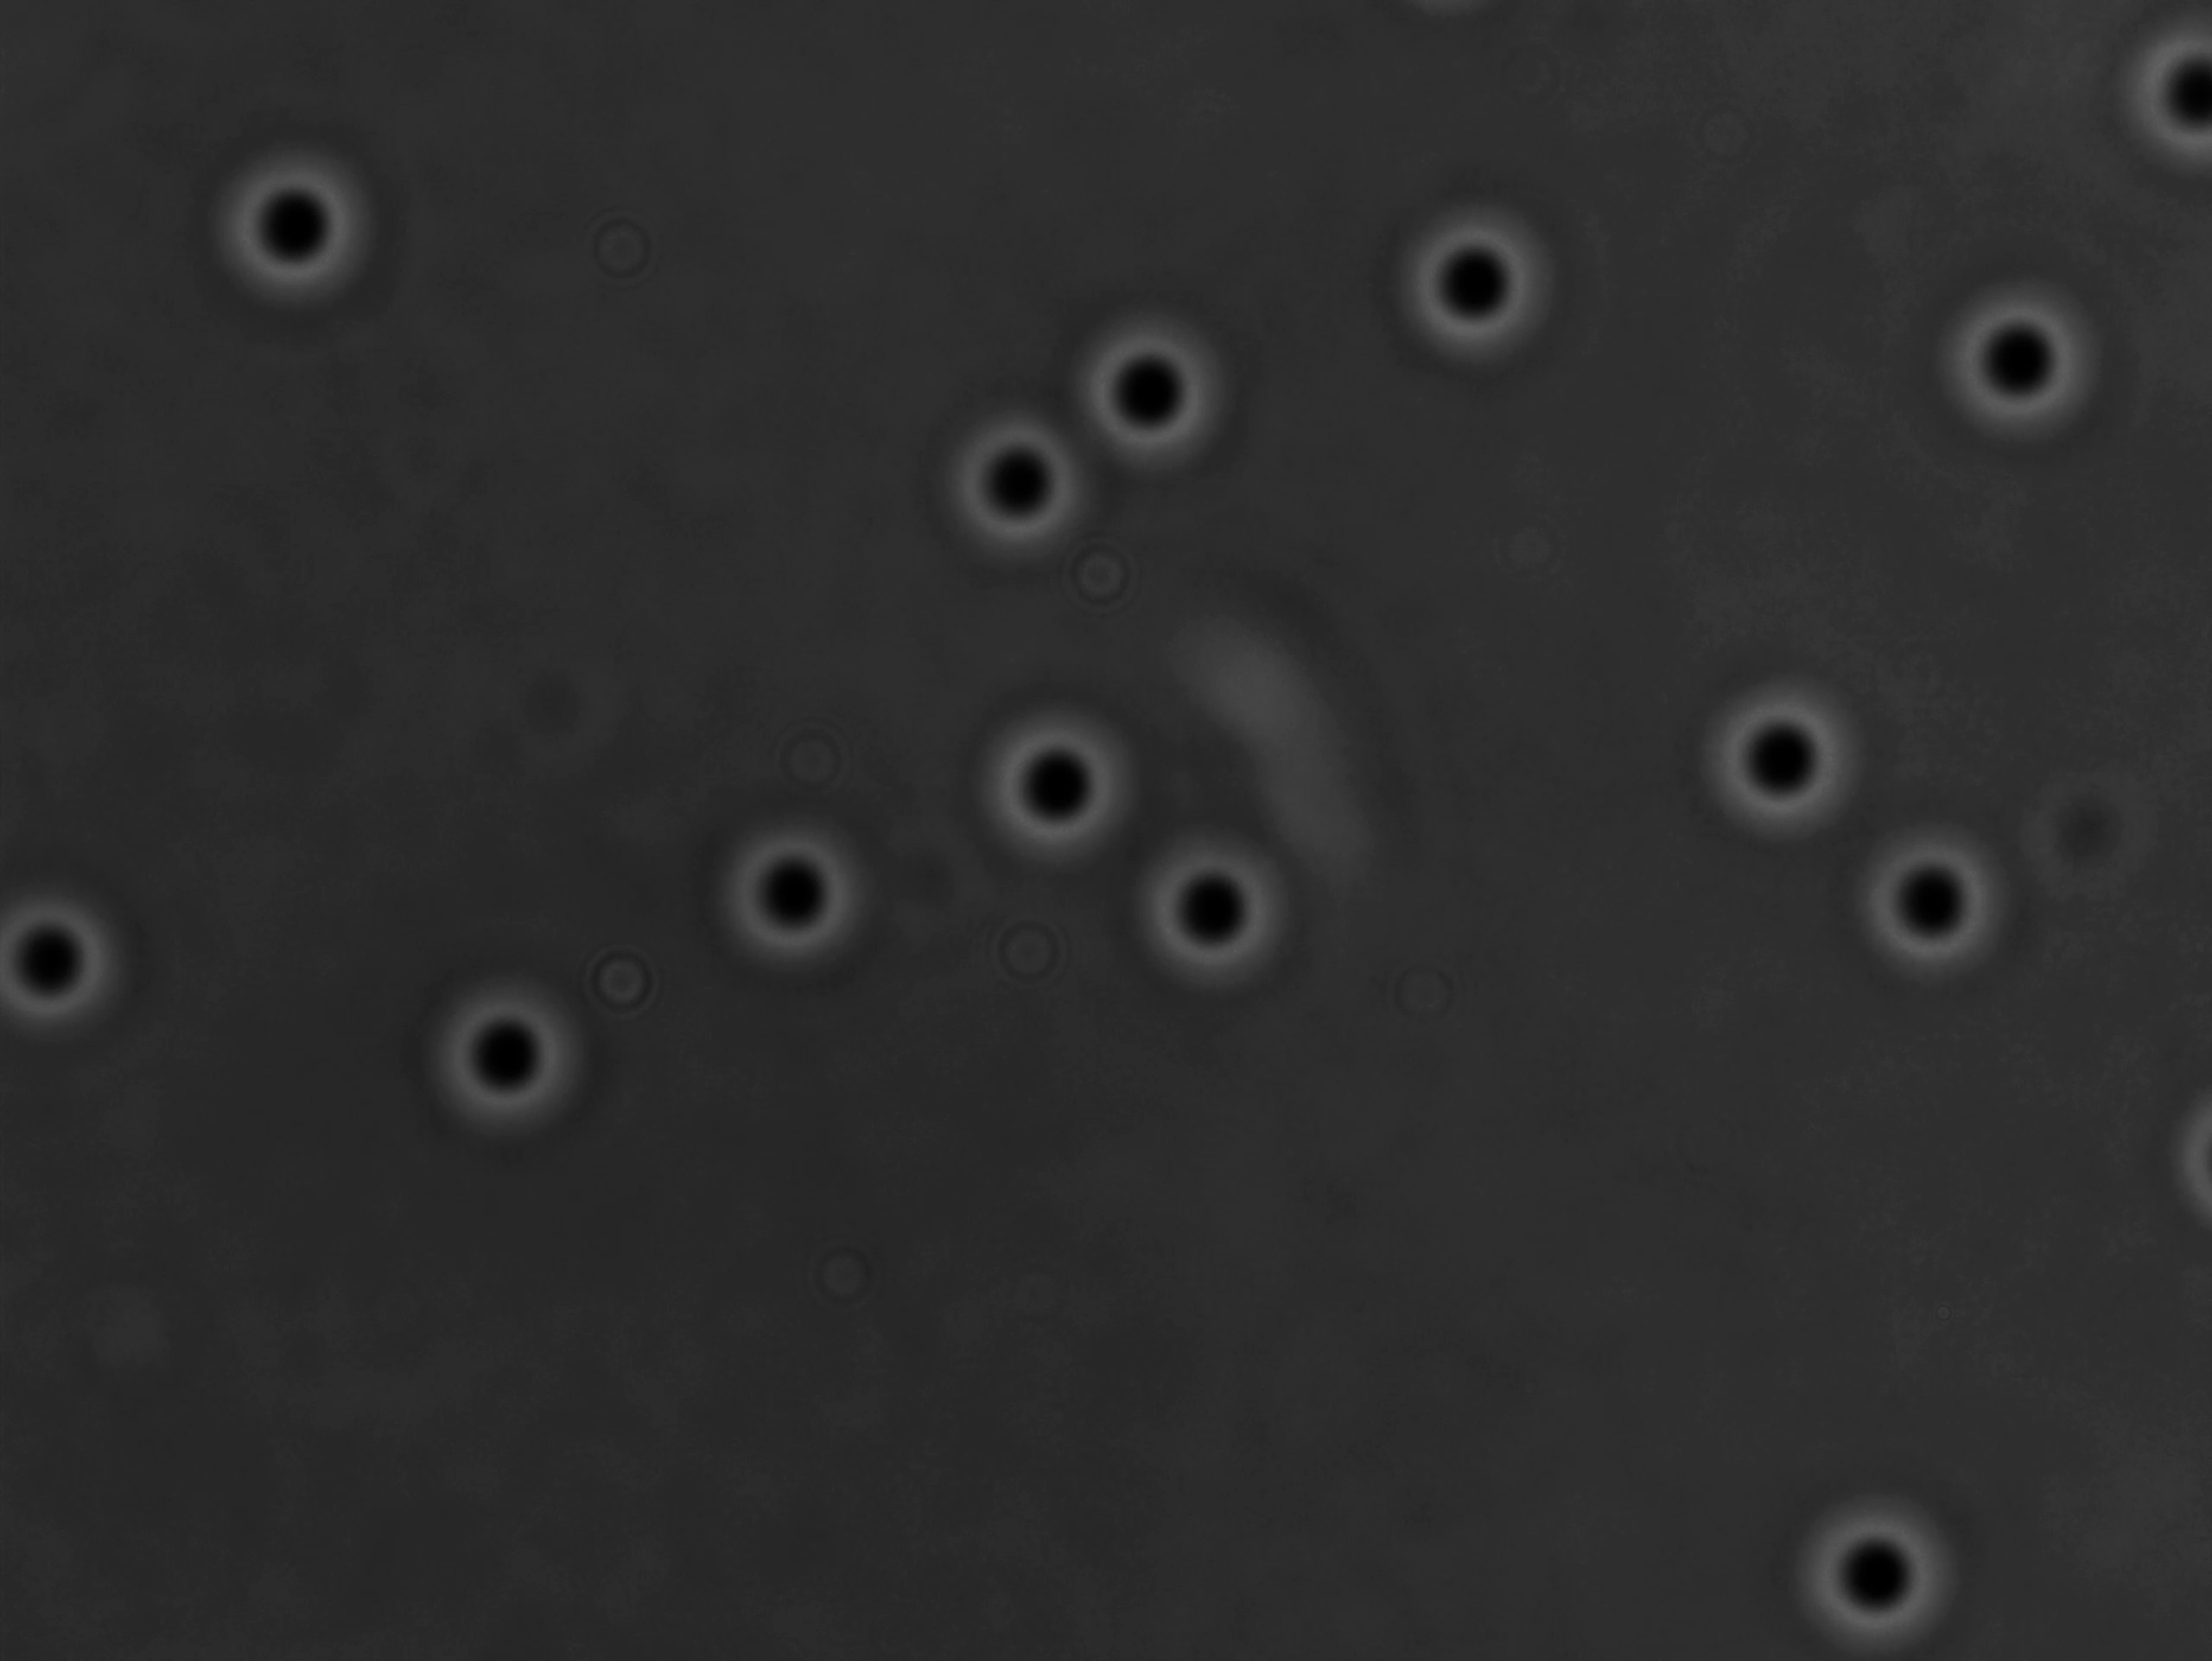depth:-80: (1662, 653, 1875, 858), (391, 947, 602, 1152), (904, 372, 1113, 574), (1765, 1466, 1980, 1659), (1364, 185, 1561, 386), (1096, 818, 1307, 1003), (197, 138, 396, 330), (1832, 825, 2041, 1003), (1924, 269, 2116, 459), (958, 686, 1143, 883), (1064, 295, 1251, 483), (696, 813, 886, 995)
